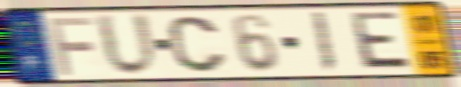6: (230, 12, 279, 75)
C: (165, 14, 230, 75)
E: (350, 10, 416, 73)
F: (45, 15, 98, 78)
I: (308, 10, 339, 75)
U: (92, 11, 161, 80)
